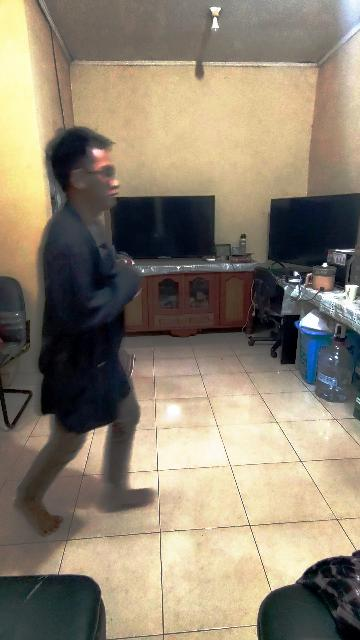berlari: (16, 126, 152, 540)
